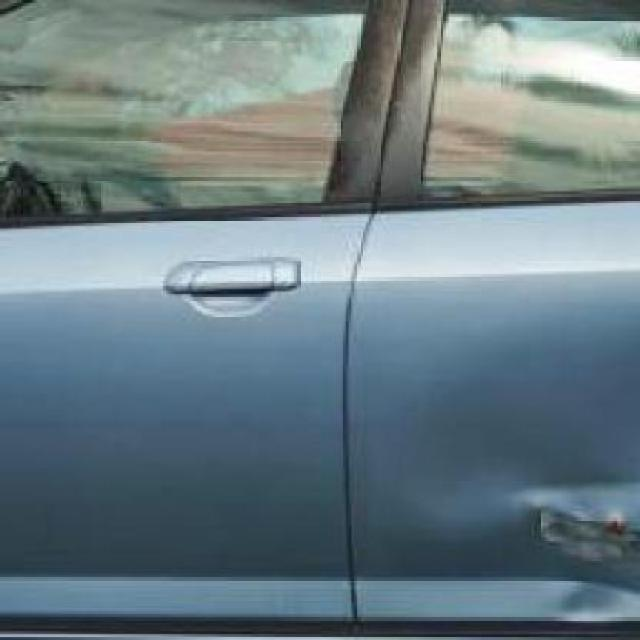dent-or-scratch: (497, 471, 637, 600)
